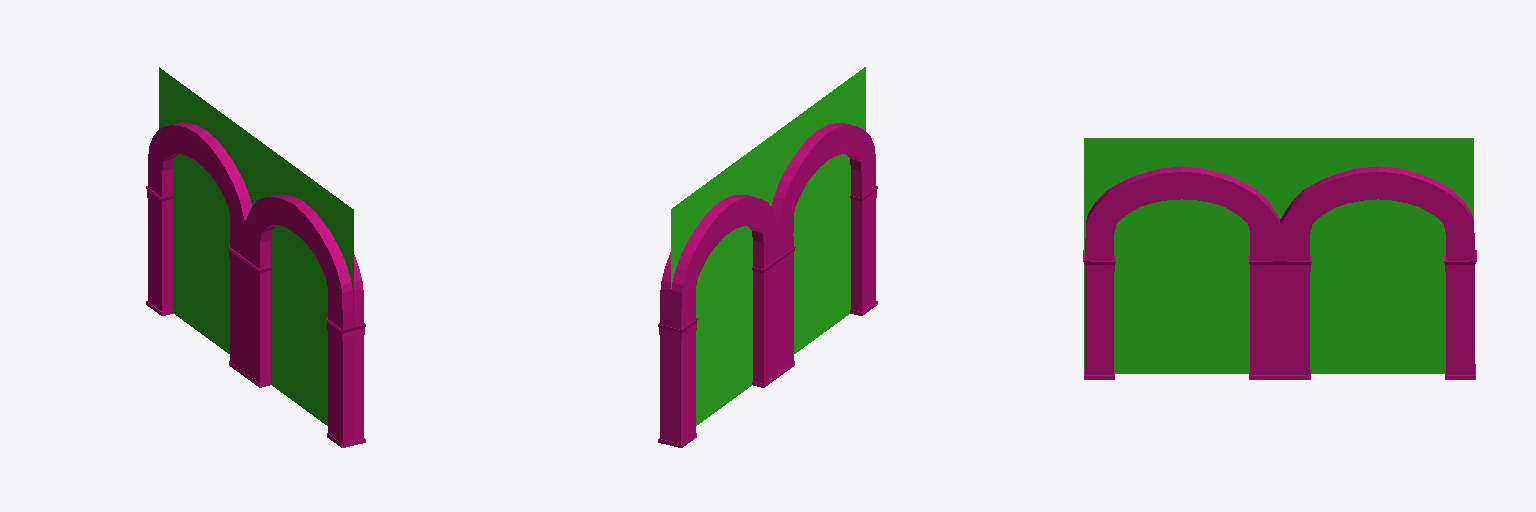
File: arch_wall.obj
3 views of the same model, side by side, from view 1: azimuth 30°, elevation 25°; view 2: azimuth 150°, elevation 25°; view 3: azimuth 270°, elevation 25° (orthographic).
Visible parts, largest first — view 1: Plane.001, Cube.002; view 2: Plane.001, Cube.002; view 3: Plane.001, Cube.002.
Boxes of the visible parts, <box> form: Plane.001: <box>159,67,353,441</box>; Cube.002: <box>146,123,365,447</box>; Plane.001: <box>671,67,865,425</box>; Cube.002: <box>658,123,877,447</box>; Plane.001: <box>1084,138,1473,373</box>; Cube.002: <box>1083,166,1476,379</box>.
Size of the model in its own units: 0.2164 by 2 by 3.02.